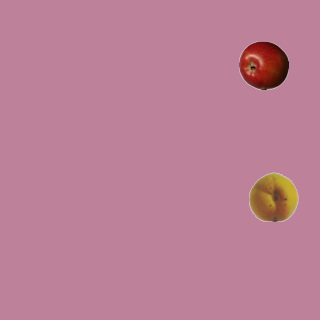Apple Braeburn: (238, 40, 288, 90)
Peach 2: (248, 171, 298, 221)
